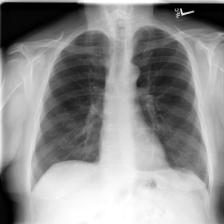normal: (27, 22, 214, 194)
